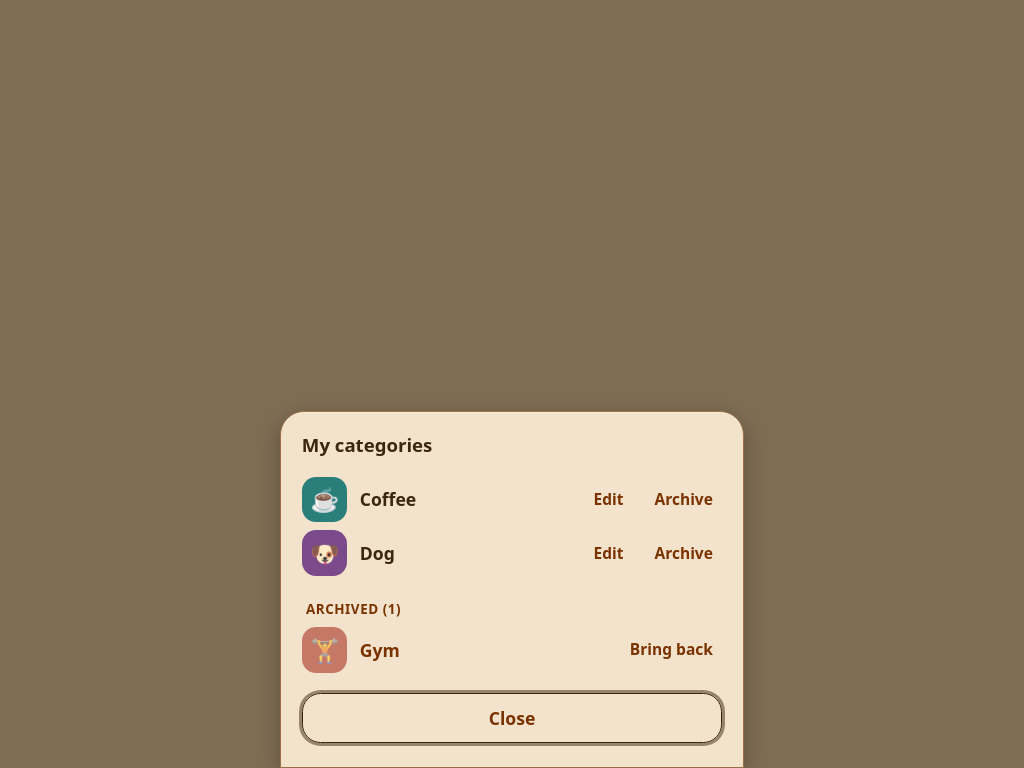
Scenario: MyCategoriesSheet › editing › opens the same sheet filled in with the name, the emoji and the colour (en)
This screenshot has width=1024, height=768.
Click the button "Edit" in the row of "Coffee" at (609, 499), box [584,477,633,522]
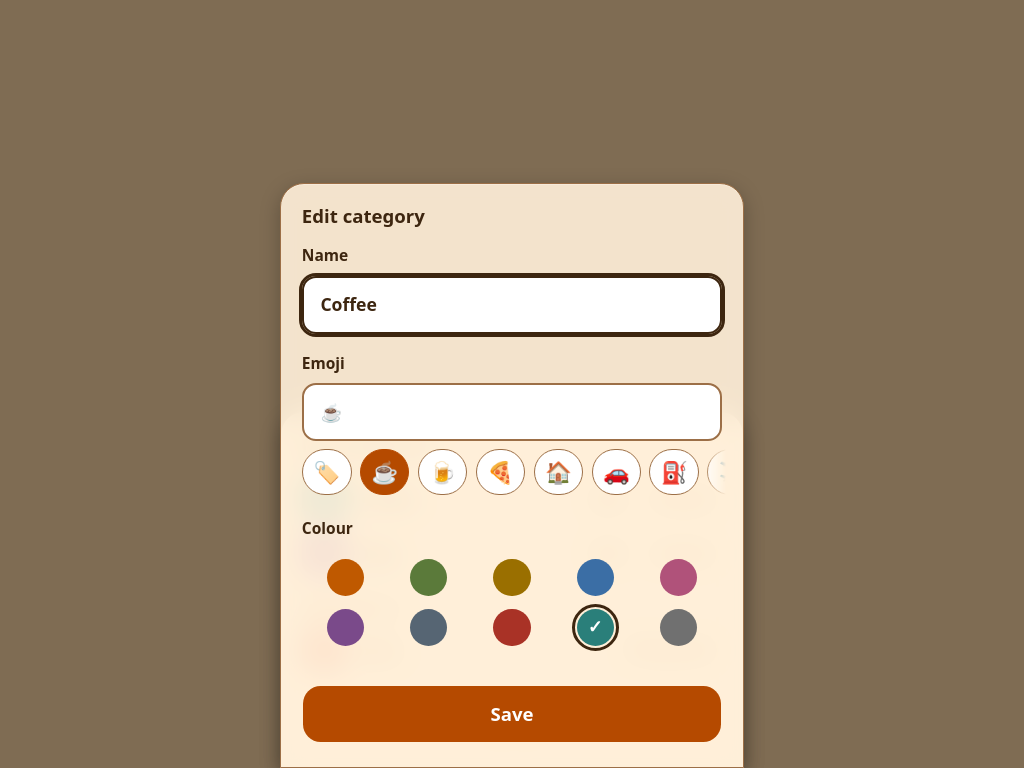
Now the field labelled "Name" holds "Coffee", box [302,276,722,334]
